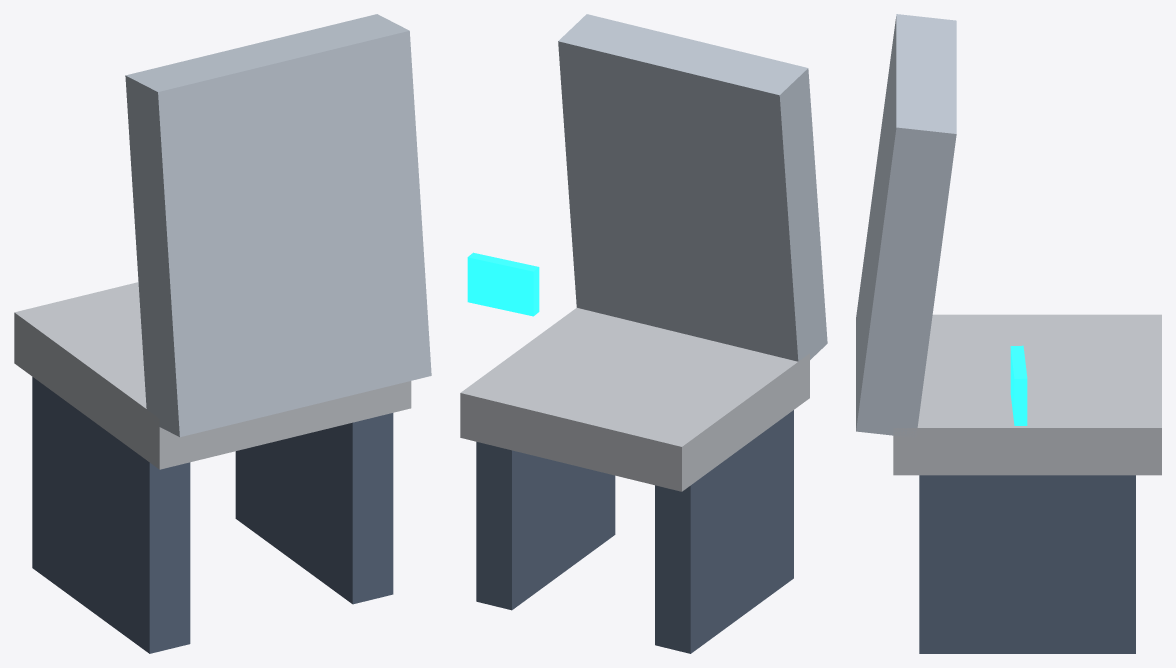
Rendered from smart_chair.glb.
3 views of the same model, side by side, from view 1: azimuth 30°, elevation 25°; view 2: azimuth 150°, elevation 25°; view 3: azimuth 270°, elevation 25° (orthographic). The views are drawn at different scales.
Parts seen in each view (by area): view 1: smart_chair_back, smart_chair_leg_-0.25, smart_chair_seat, smart_chair_leg_0.25; view 2: smart_chair_back, smart_chair_seat, smart_chair_leg_-0.25, smart_chair_leg_0.25, smart_chair_haptic_control; view 3: smart_chair_leg_0.25, smart_chair_seat, smart_chair_back, smart_chair_haptic_control.
Boxes of the visible parts, x1,y1,x2,y2 form: smart_chair_back: [125, 14, 431, 437]; smart_chair_leg_-0.25: [32, 377, 190, 653]; smart_chair_seat: [14, 282, 411, 469]; smart_chair_leg_0.25: [235, 413, 393, 604]; smart_chair_back: [558, 14, 827, 361]; smart_chair_seat: [460, 308, 809, 491]; smart_chair_leg_-0.25: [655, 410, 793, 653]; smart_chair_leg_0.25: [476, 441, 615, 610]; smart_chair_haptic_control: [467, 252, 539, 316]; smart_chair_leg_0.25: [919, 475, 1135, 653]; smart_chair_seat: [893, 314, 1161, 475]; smart_chair_back: [856, 14, 956, 436]; smart_chair_haptic_control: [1010, 345, 1027, 425].
Size of the model in its own units: 0.7806 by 1.35 by 0.7062.
